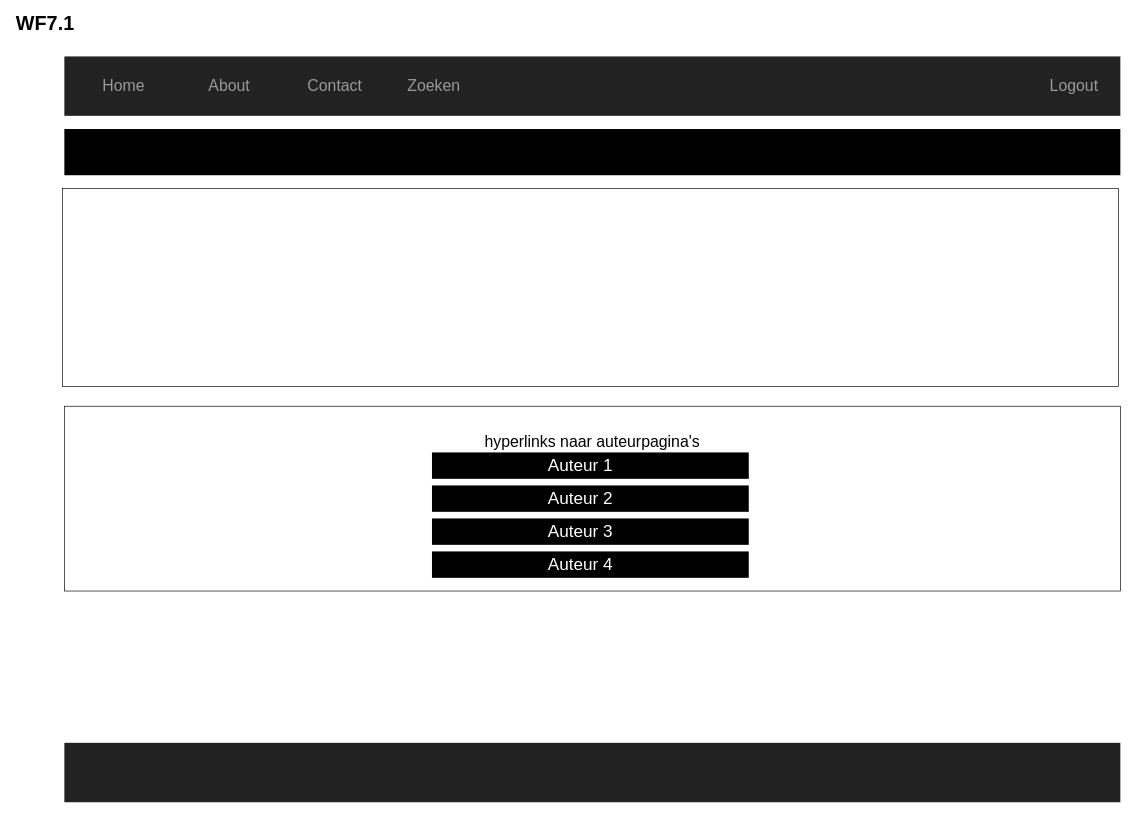
This 1132x813 diagram has some shape labels left out. Each missing label, with the centre of its shape:
"Algemene beschrijving about" goes at (x=590, y=287).
"Footer tekst" goes at (x=592, y=772).
"Paginatitel about" goes at (x=592, y=152).
